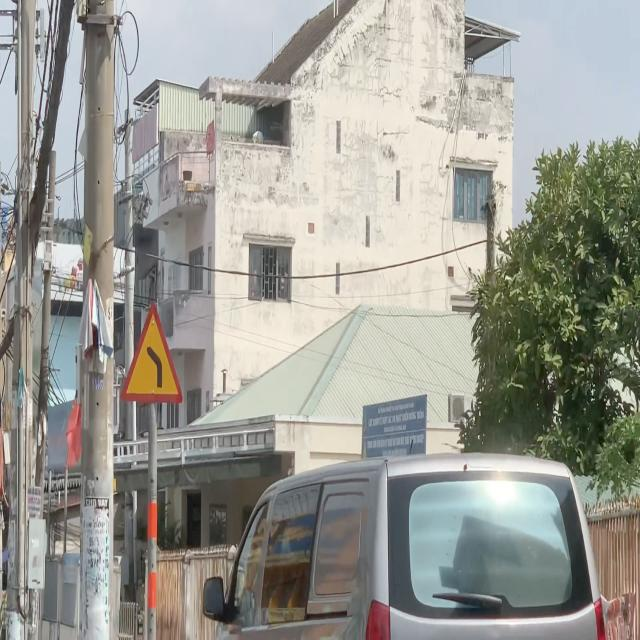Nguy hiem: (119, 299, 188, 407)
